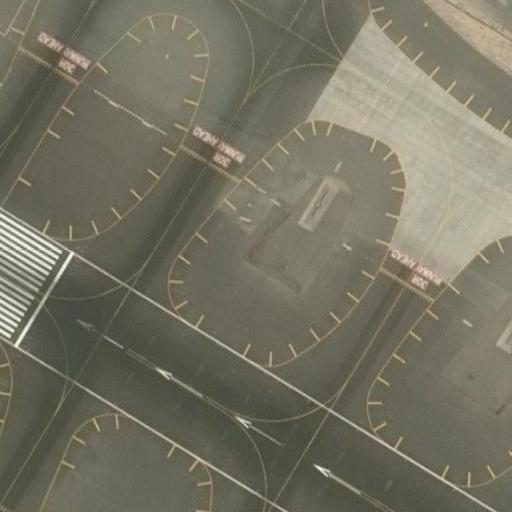Aircraft: (0, 506, 27, 512)
